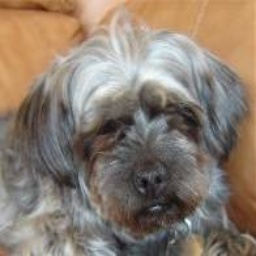dog: (2, 31, 254, 255)
